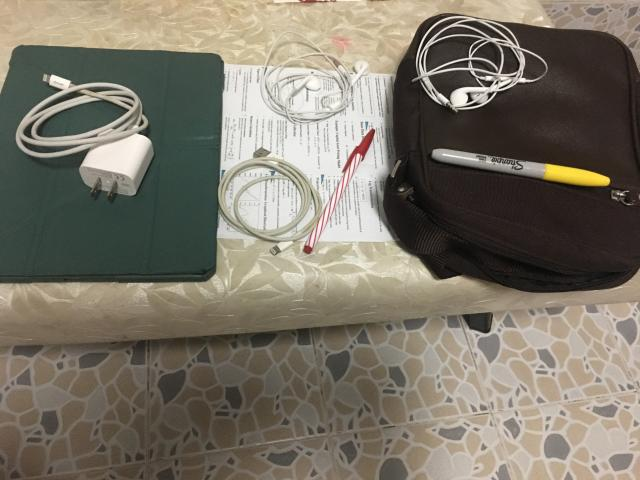Pen: (304, 129, 375, 254), (431, 149, 610, 186)
paper: (150, 59, 435, 241)
wire: (16, 75, 154, 200), (412, 15, 548, 112), (218, 148, 322, 255), (260, 31, 370, 125)
